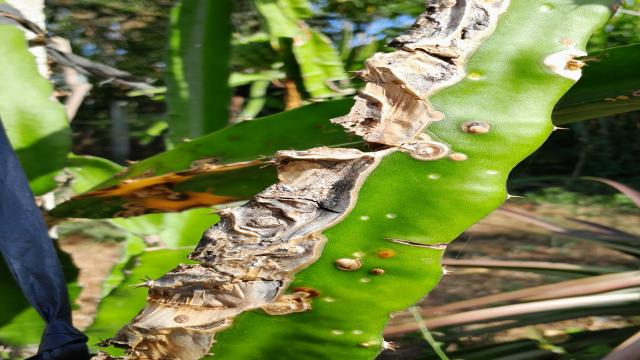stemcanker: (392, 140, 454, 165), (455, 117, 494, 137), (333, 252, 364, 274), (371, 246, 399, 262), (365, 265, 388, 280)
